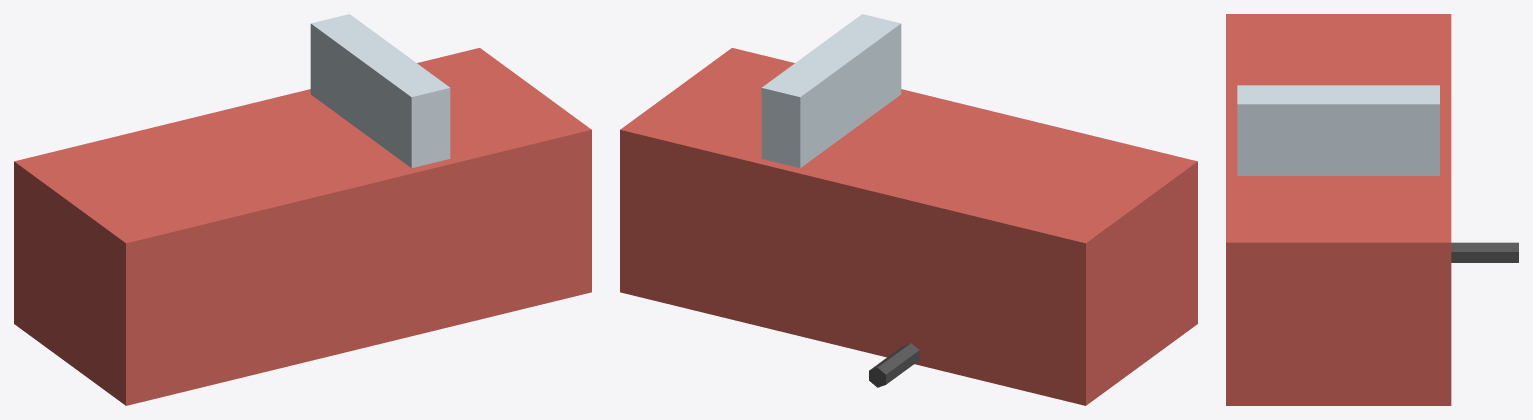
File: snowmobile.glb
3 views of the same model, side by side, from view 1: azimuth 30°, elevation 25°; view 2: azimuth 150°, elevation 25°; view 3: azimuth 270°, elevation 25° (orthographic).
Parts seen in each view (by area): view 1: body, windshield; view 2: body, windshield, ski1; view 3: body, windshield, ski1.
Part boxes in pixels (x1,y1,x2,y2): body: [14, 48, 591, 405]; windshield: [310, 14, 450, 168]; body: [620, 48, 1197, 405]; windshield: [761, 14, 901, 168]; ski1: [869, 343, 919, 387]; body: [1226, 14, 1451, 405]; windshield: [1237, 85, 1439, 175]; ski1: [1451, 242, 1518, 262].
Size of the model in its own units: 2.4 by 1.15 by 1.3.
